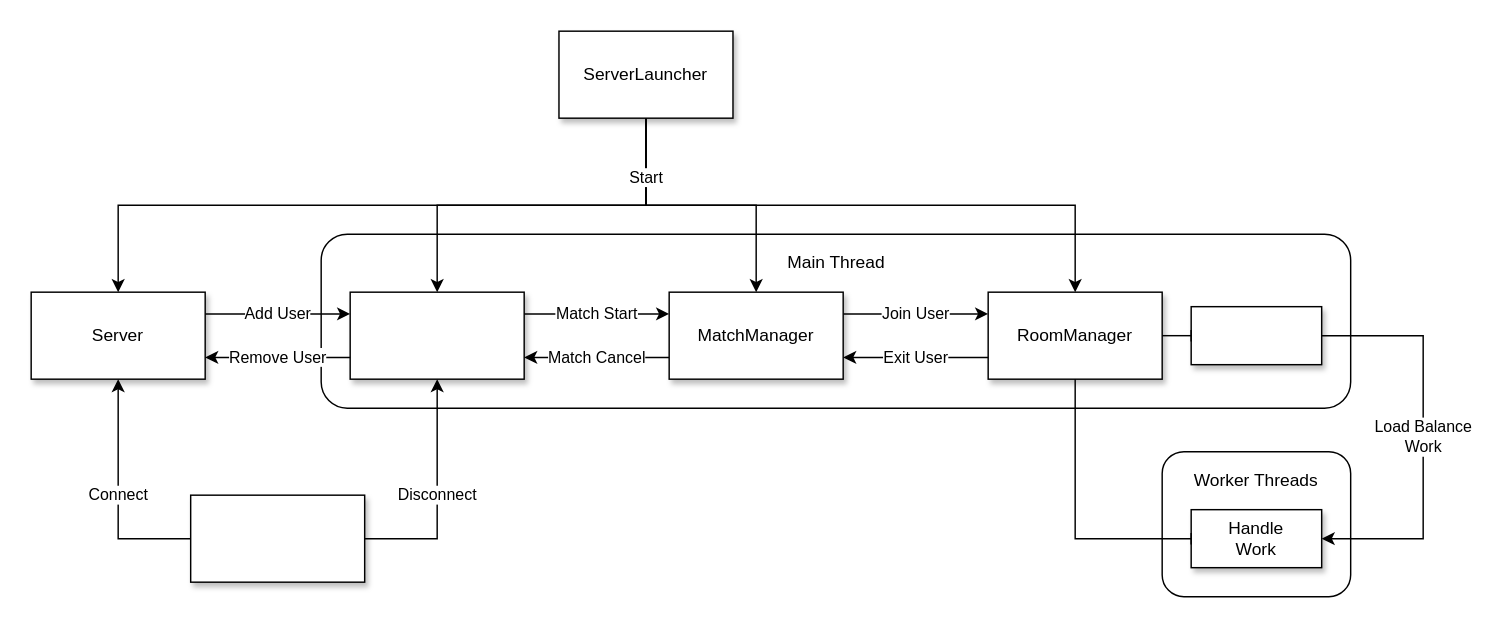
Some shapes in this 1496 by 622 pixel diagram are drawn without their labels. Each missing label, with the centre of its shape:
"Client" belongs at point 278,540.
"Handle Message" belongs at point 1257,337.
"UserManager" belongs at point 438,337.
